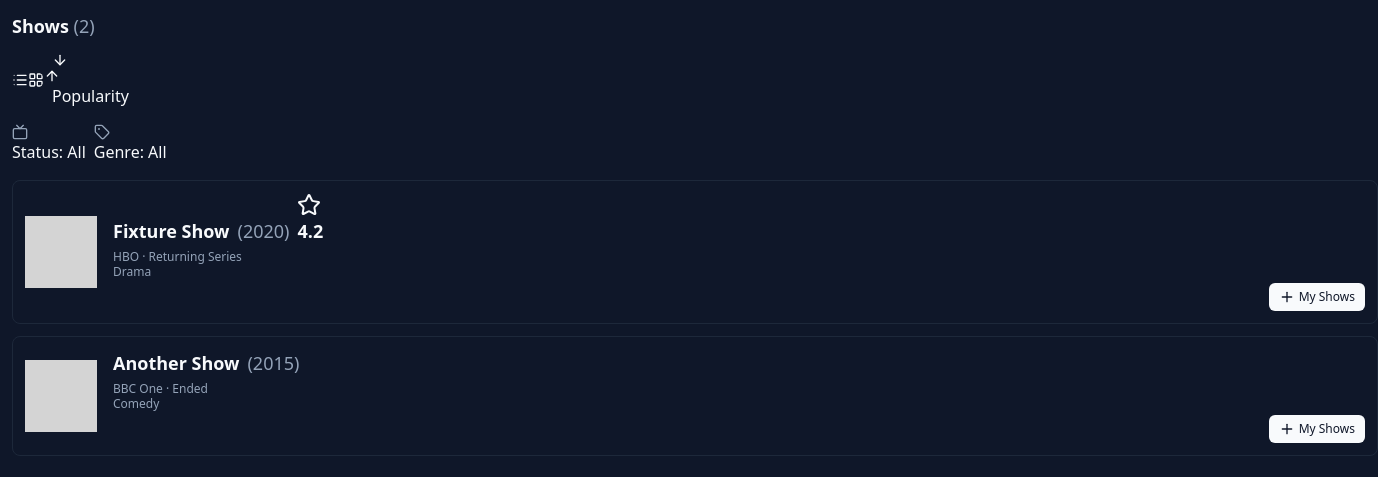
Test: SearchOverlay › adding a show from the list of results (NEU-1192) › leaves the result in place and moves the control to its tracked state
This screenshot has width=1378, height=477.
Click the button with aria-label "Add Fixture Show to My Shows". click: (1317, 297)
box: [1269,283,1365,311]
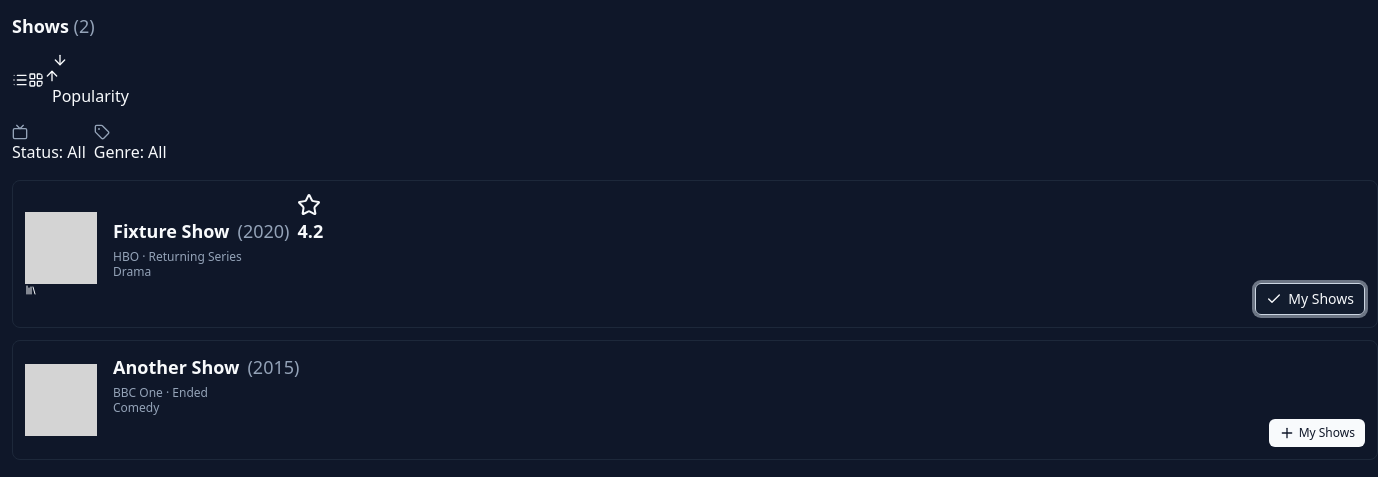
Check: the link "Fixture Show" is shown, box [113,217,230,245]
Check: the button with aria-label "Remove Fixture Show from My Shows" is shown, box [1255,283,1365,315]
Check: the number of pictures titled "In your My Shows" is 1, box [25,284,37,296]
